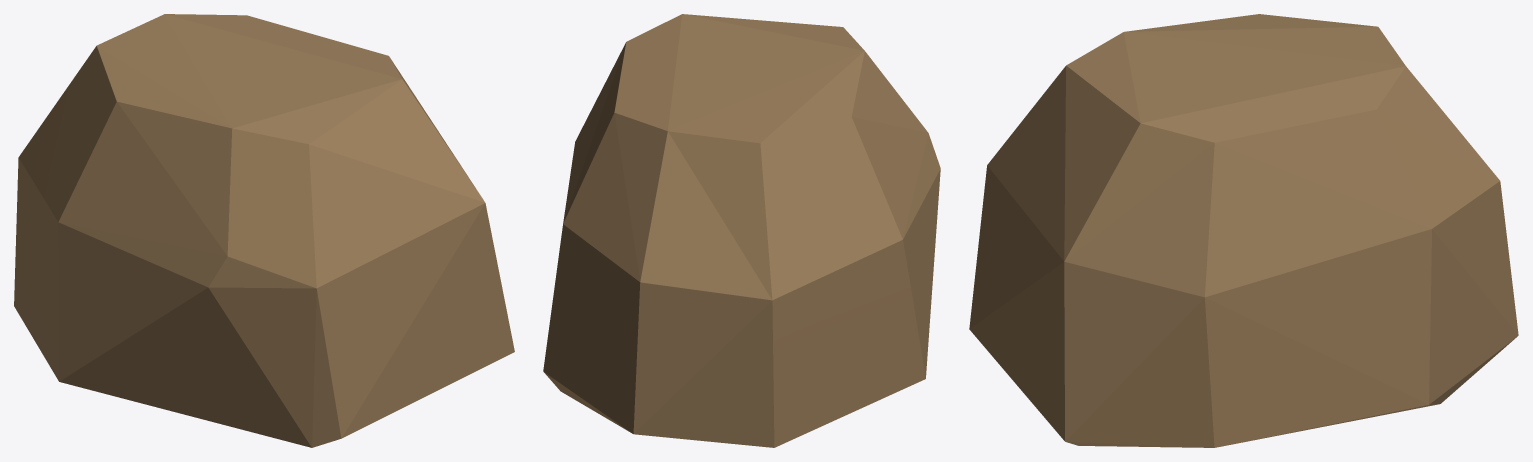
File: SM_Env_Rock_015.gltf
3 views of the same model, side by side, from view 1: azimuth 30°, elevation 25°; view 2: azimuth 150°, elevation 25°; view 3: azimuth 270°, elevation 25° (orthographic). The views are drawn at different scales.
Visible parts, largest first — view 1: SM_Env_Rock_015; view 2: SM_Env_Rock_015; view 3: SM_Env_Rock_015.
Boxes of the visible parts, x1,y1,x2,y2 form: SM_Env_Rock_015: (14,14,514,447); SM_Env_Rock_015: (543,14,940,447); SM_Env_Rock_015: (969,14,1518,447).
Bounding box in the file's own units: 0.4797 × 0.3288 × 0.564.
Materials: 1 (1 with a texture image).
